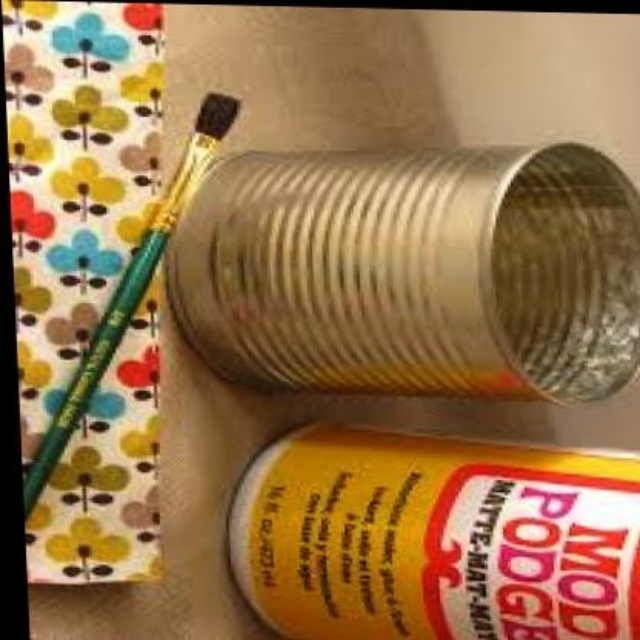trash: (166, 145, 638, 400), (231, 428, 638, 638)
